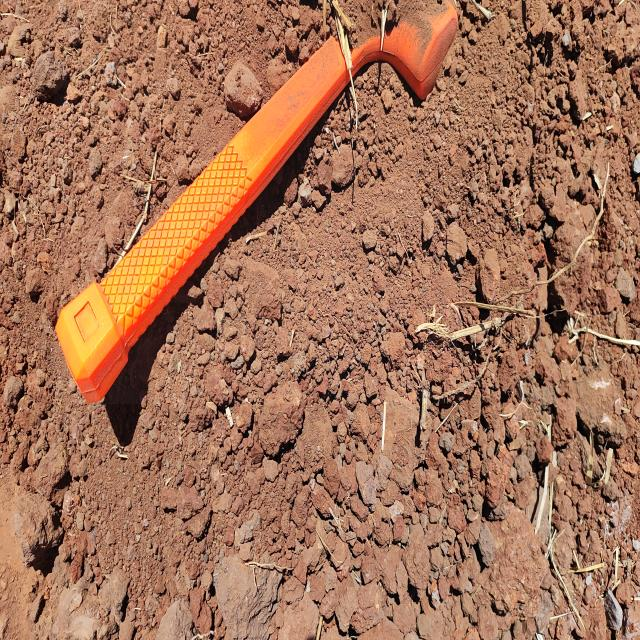Orange_hammer: (54, 0, 459, 404)
